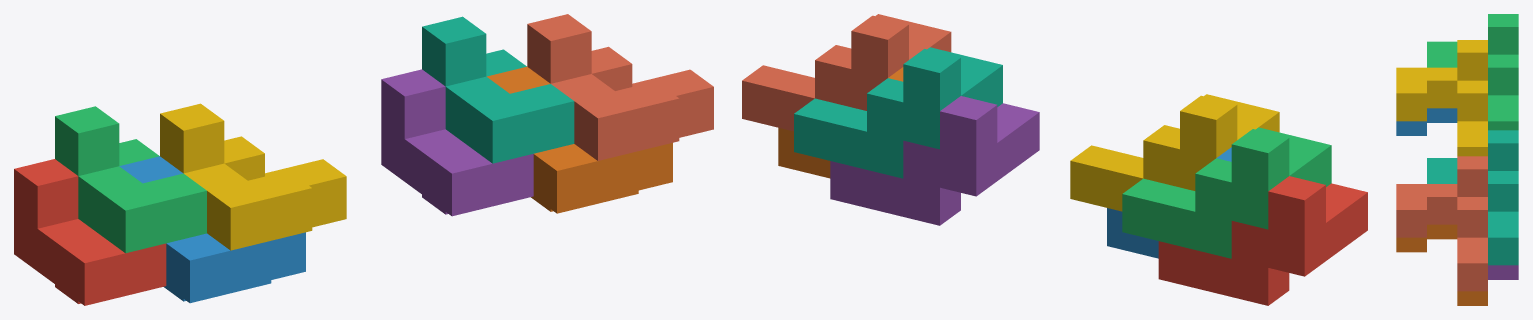
Rendered from tiling.obj.
The picture shows the model from 3 angles, left to right: view 1: azimuth 30°, elevation 25°; view 2: azimuth 150°, elevation 25°; view 3: azimuth 270°, elevation 25°; orthographic projection. The views are drawn at different scales.
Parts seen in each view (by area): view 1: copy_1_domain_8, copy_1_domain_4, copy_1_domain_7, copy_1_domain_3, copy_1_domain_5, copy_1_domain_1, copy_1_domain_2, copy_1_domain_6; view 2: copy_1_domain_1, copy_1_domain_5, copy_1_domain_3, copy_1_domain_7, copy_1_domain_4, copy_1_domain_8, copy_1_domain_6, copy_1_domain_2; view 3: copy_1_domain_8, copy_1_domain_4, copy_1_domain_7, copy_1_domain_3, copy_1_domain_6, copy_1_domain_2, copy_1_domain_5.
Part boxes in pixels (x1=…): copy_1_domain_8: x1=527, y1=14, x2=713, y2=160; copy_1_domain_4: x1=160, y1=103, x2=346, y2=250; copy_1_domain_7: x1=422, y1=16, x2=574, y2=163; copy_1_domain_3: x1=55, y1=106, x2=206, y2=253; copy_1_domain_5: x1=381, y1=69, x2=533, y2=216; copy_1_domain_1: x1=14, y1=159, x2=166, y2=305; copy_1_domain_2: x1=119, y1=156, x2=305, y2=303; copy_1_domain_6: x1=487, y1=66, x2=672, y2=213; copy_1_domain_1: x1=1158, y1=176, x2=1367, y2=305; copy_1_domain_5: x1=830, y1=96, x2=1039, y2=225; copy_1_domain_3: x1=1122, y1=127, x2=1331, y2=258; copy_1_domain_7: x1=794, y1=47, x2=1002, y2=178; copy_1_domain_4: x1=1070, y1=94, x2=1279, y2=211; copy_1_domain_8: x1=742, y1=14, x2=951, y2=131; copy_1_domain_6: x1=778, y1=67, x2=903, y2=178; copy_1_domain_2: x1=1107, y1=147, x2=1231, y2=258; copy_1_domain_8: x1=1396, y1=156, x2=1487, y2=291; copy_1_domain_4: x1=1396, y1=40, x2=1487, y2=156; copy_1_domain_7: x1=1427, y1=130, x2=1518, y2=265; copy_1_domain_3: x1=1427, y1=14, x2=1518, y2=130; copy_1_domain_6: x1=1396, y1=224, x2=1487, y2=305; copy_1_domain_2: x1=1396, y1=108, x2=1457, y2=135; copy_1_domain_5: x1=1488, y1=265, x2=1518, y2=279.
Bounding box in the file's own units: 16 × 4 × 4.
